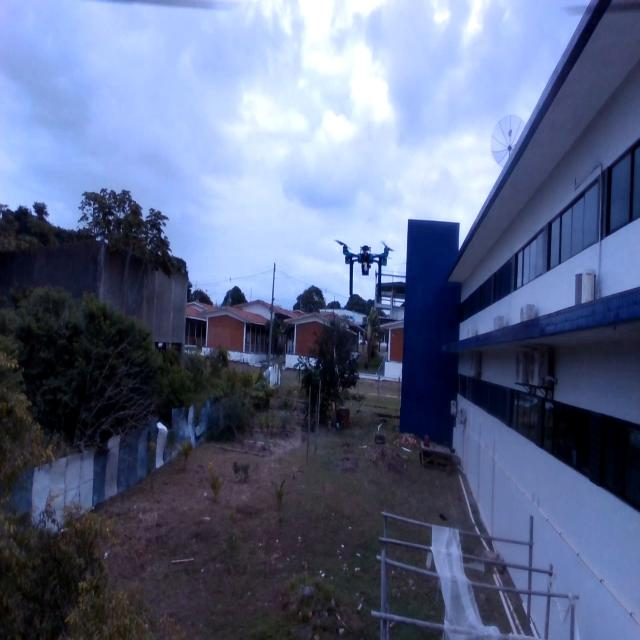-uav-: (331, 228, 397, 310)
